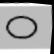no answer: (2, 10, 40, 43)
